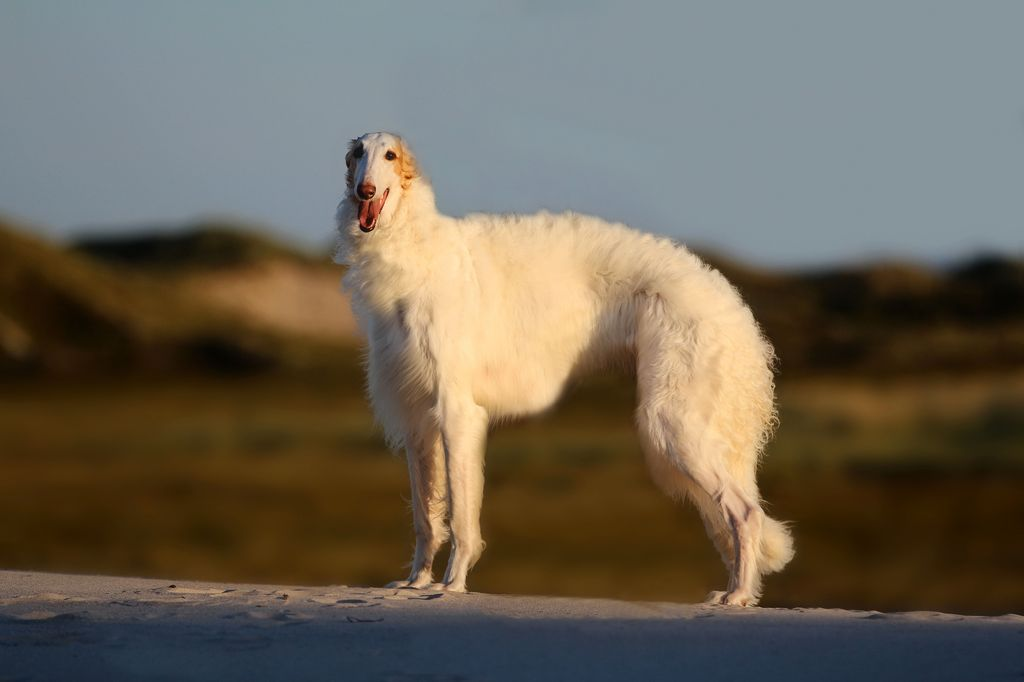borzoi: (297, 109, 813, 613)
